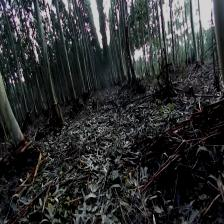trunk: (33, 3, 63, 125), (0, 72, 24, 147), (159, 4, 171, 89), (62, 41, 77, 104), (190, 4, 199, 62)
